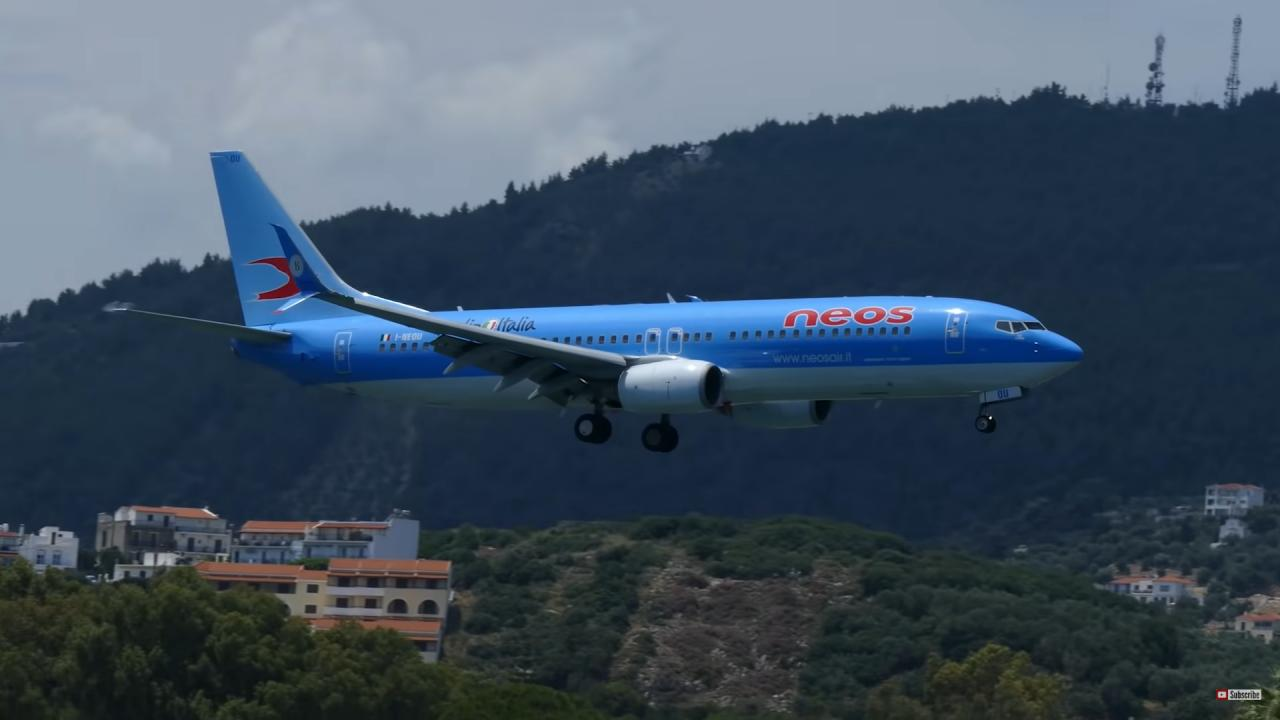Airplane: (89, 143, 1103, 462)
